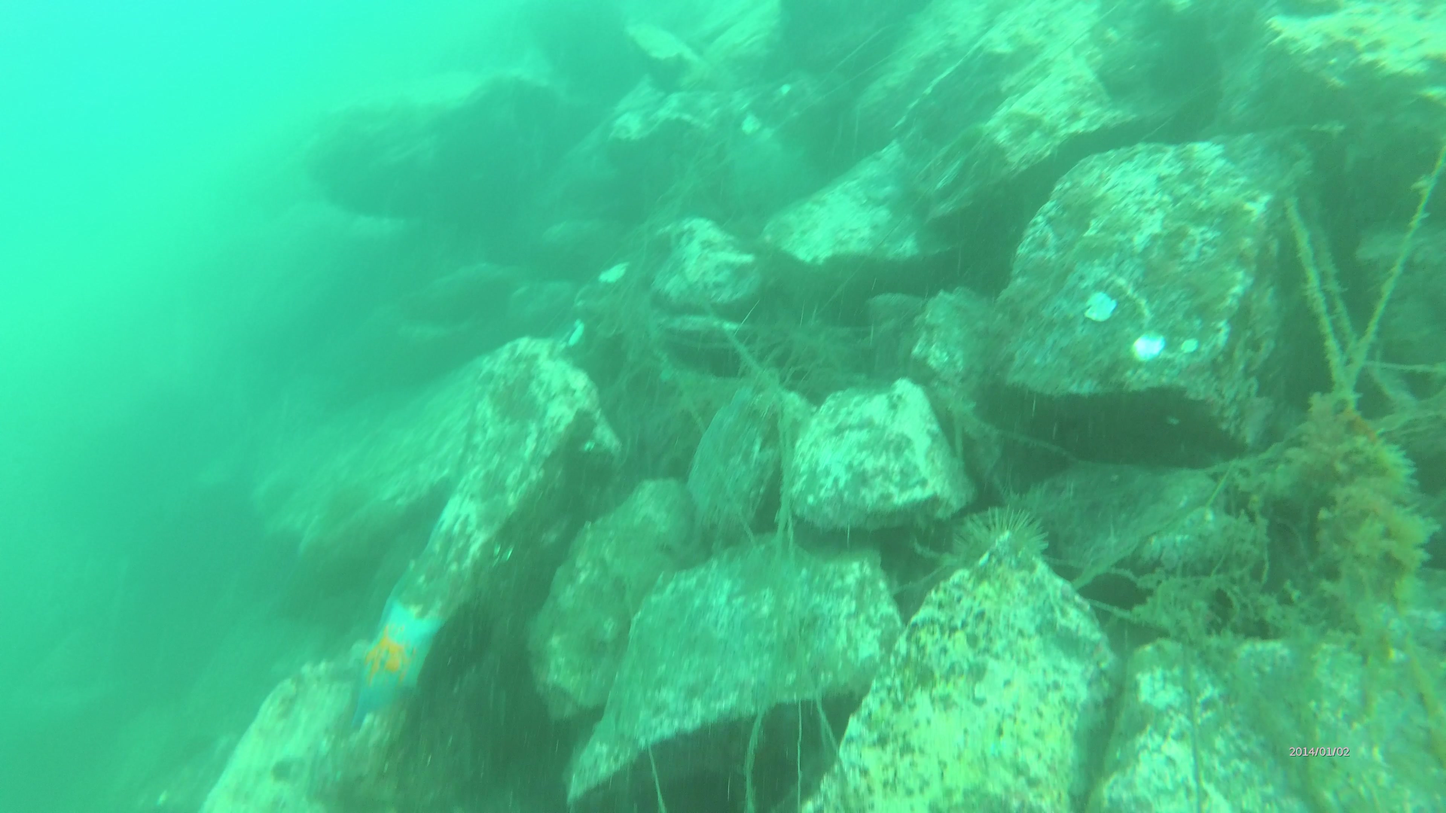holothurian: (346, 606, 451, 727)
starfish: (953, 512, 1051, 573)
